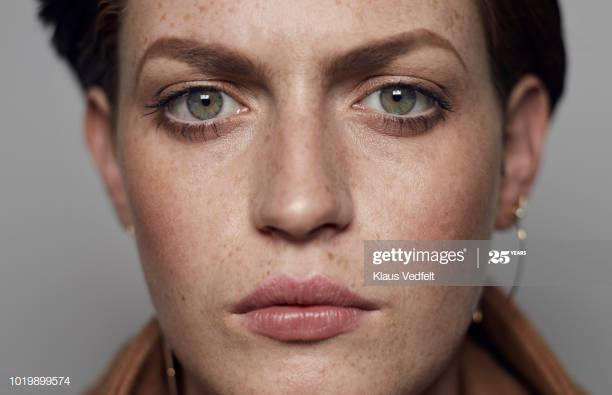bare: (120, 134, 489, 390)
